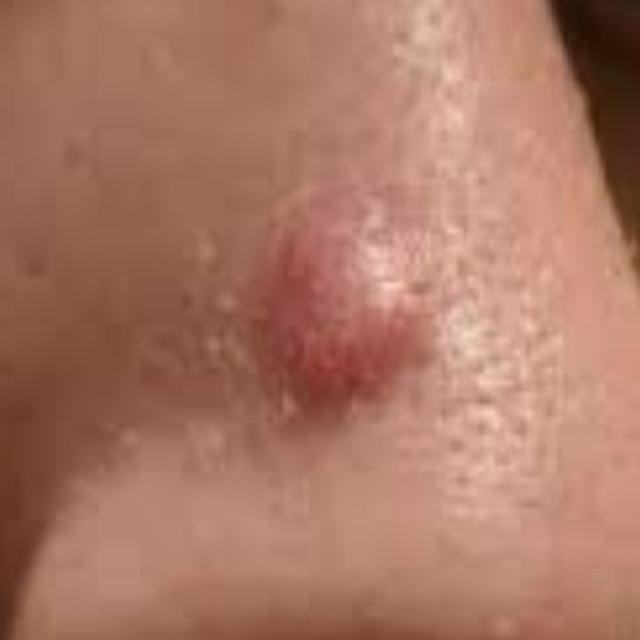nodule: (256, 215, 426, 416)
